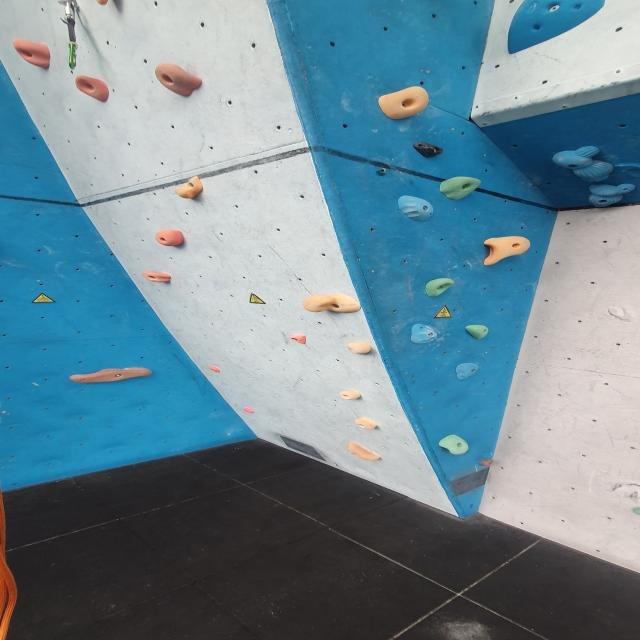Crimp: (502, 0, 598, 56), (341, 439, 386, 462), (412, 141, 444, 158), (345, 341, 374, 358), (286, 334, 309, 346), (478, 458, 496, 468), (207, 363, 224, 373), (242, 408, 257, 416)
Jug: (67, 357, 157, 391), (373, 82, 434, 122), (150, 65, 206, 100), (482, 235, 534, 267), (299, 294, 362, 318), (10, 37, 53, 71), (437, 174, 483, 201), (72, 76, 112, 105), (436, 433, 472, 458), (151, 229, 188, 250), (141, 267, 176, 288), (423, 278, 457, 297)
Pinch: (552, 140, 622, 182), (591, 176, 631, 210), (171, 176, 206, 202), (352, 416, 381, 432), (338, 388, 365, 402)
Sloper: (396, 197, 436, 219), (405, 323, 439, 343), (451, 362, 482, 379), (462, 322, 490, 340)
